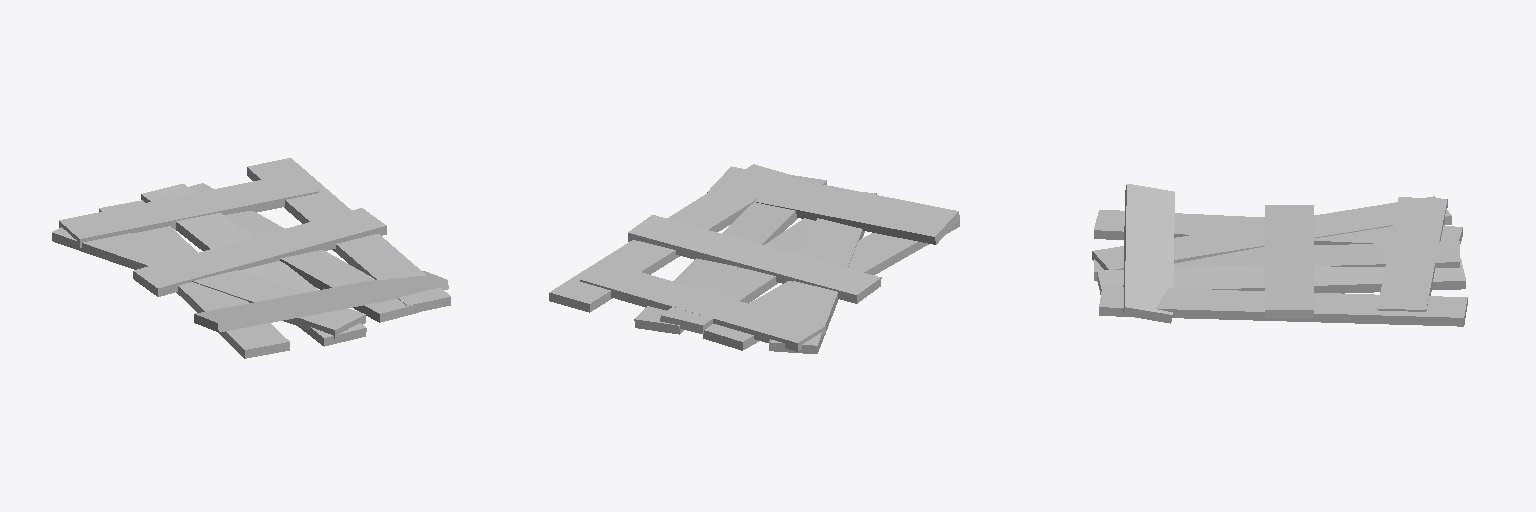
Rendered from woodfloat.obj.
The picture shows the model from 3 angles: view 1: azimuth 30°, elevation 25°; view 2: azimuth 150°, elevation 25°; view 3: azimuth 270°, elevation 25°; orthographic projection.
Parts seen in each view (by area): view 1: Cube.007, Cube.006, Cube.004, Cube.001, Cube.005, Cube.002, Cube, Cube.003; view 2: Cube.005, Cube.007, Cube.006, Cube.001, Cube.004, Cube, Cube.002, Cube.003; view 3: Cube.001, Cube.005, Cube.006, Cube.007, Cube, Cube.004, Cube.003, Cube.002.
Boxes of the visible parts, box(x1,y1,x2,y2) form: Cube.007: box(133, 208, 386, 296); Cube.006: box(59, 173, 318, 247); Cube.004: box(52, 227, 365, 338); Cube.001: box(247, 158, 450, 312); Cube.005: box(194, 271, 448, 332); Cube.002: box(141, 184, 366, 346); Cube: box(189, 183, 418, 322); Cube.003: box(99, 200, 289, 358); Cube.005: box(707, 166, 959, 244); Cube.007: box(628, 215, 881, 303); Cube.006: box(580, 263, 825, 351); Cube.001: box(549, 164, 793, 312); Cube.004: box(769, 192, 876, 353); Cube: box(634, 175, 826, 334); Cube.002: box(660, 218, 815, 333); Cube.003: box(703, 220, 959, 350); Cube.001: box(1099, 286, 1467, 326); Cube.005: box(1123, 184, 1174, 323); Cube.006: box(1377, 197, 1447, 311); Cube.007: box(1265, 205, 1313, 318); Cube: box(1097, 258, 1465, 294); Cube.004: box(1092, 196, 1451, 269); Cube.003: box(1094, 210, 1462, 244); Cube.002: box(1094, 241, 1459, 280).
Size of the model in its own units: 2.34 by 0.2944 by 2.99.